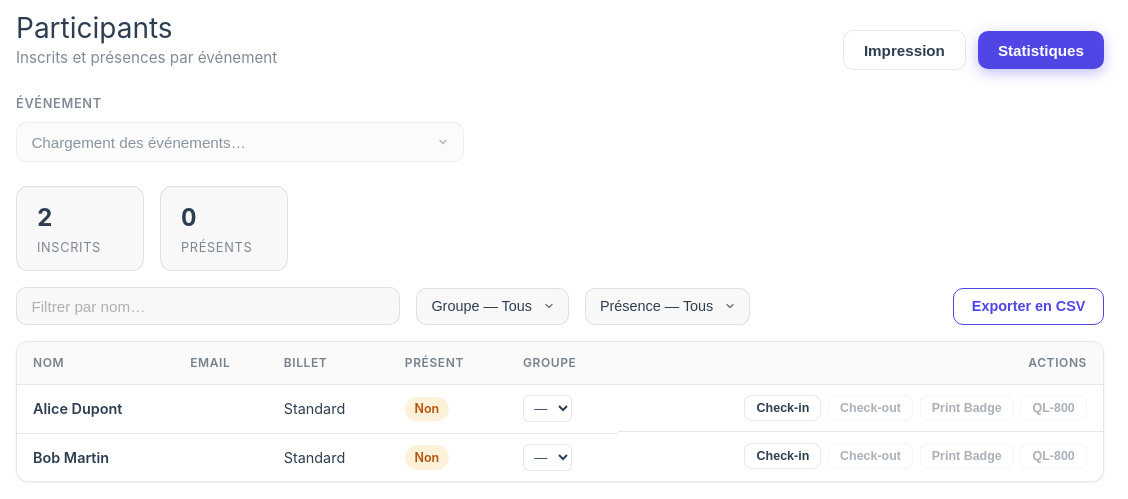
Test: DashboardView › filtre le tableau par nom (insensible à la casse)
Type "alice" into the search field with placeholder "Filtrer par nom…". click: (208, 306)
box: [16,287,400,325]
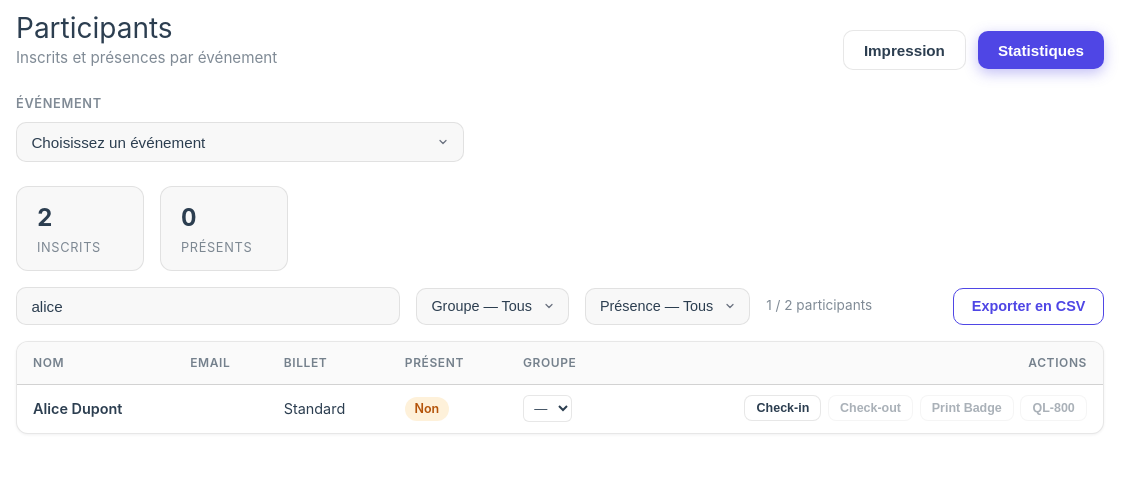
Expected: the text "Alice Dupont" is shown, [17,384,174,433]
Expected: the text "Bob Martin" is gone
Expected: the text "1 / 2 participants" is shown, [766,295,872,317]
